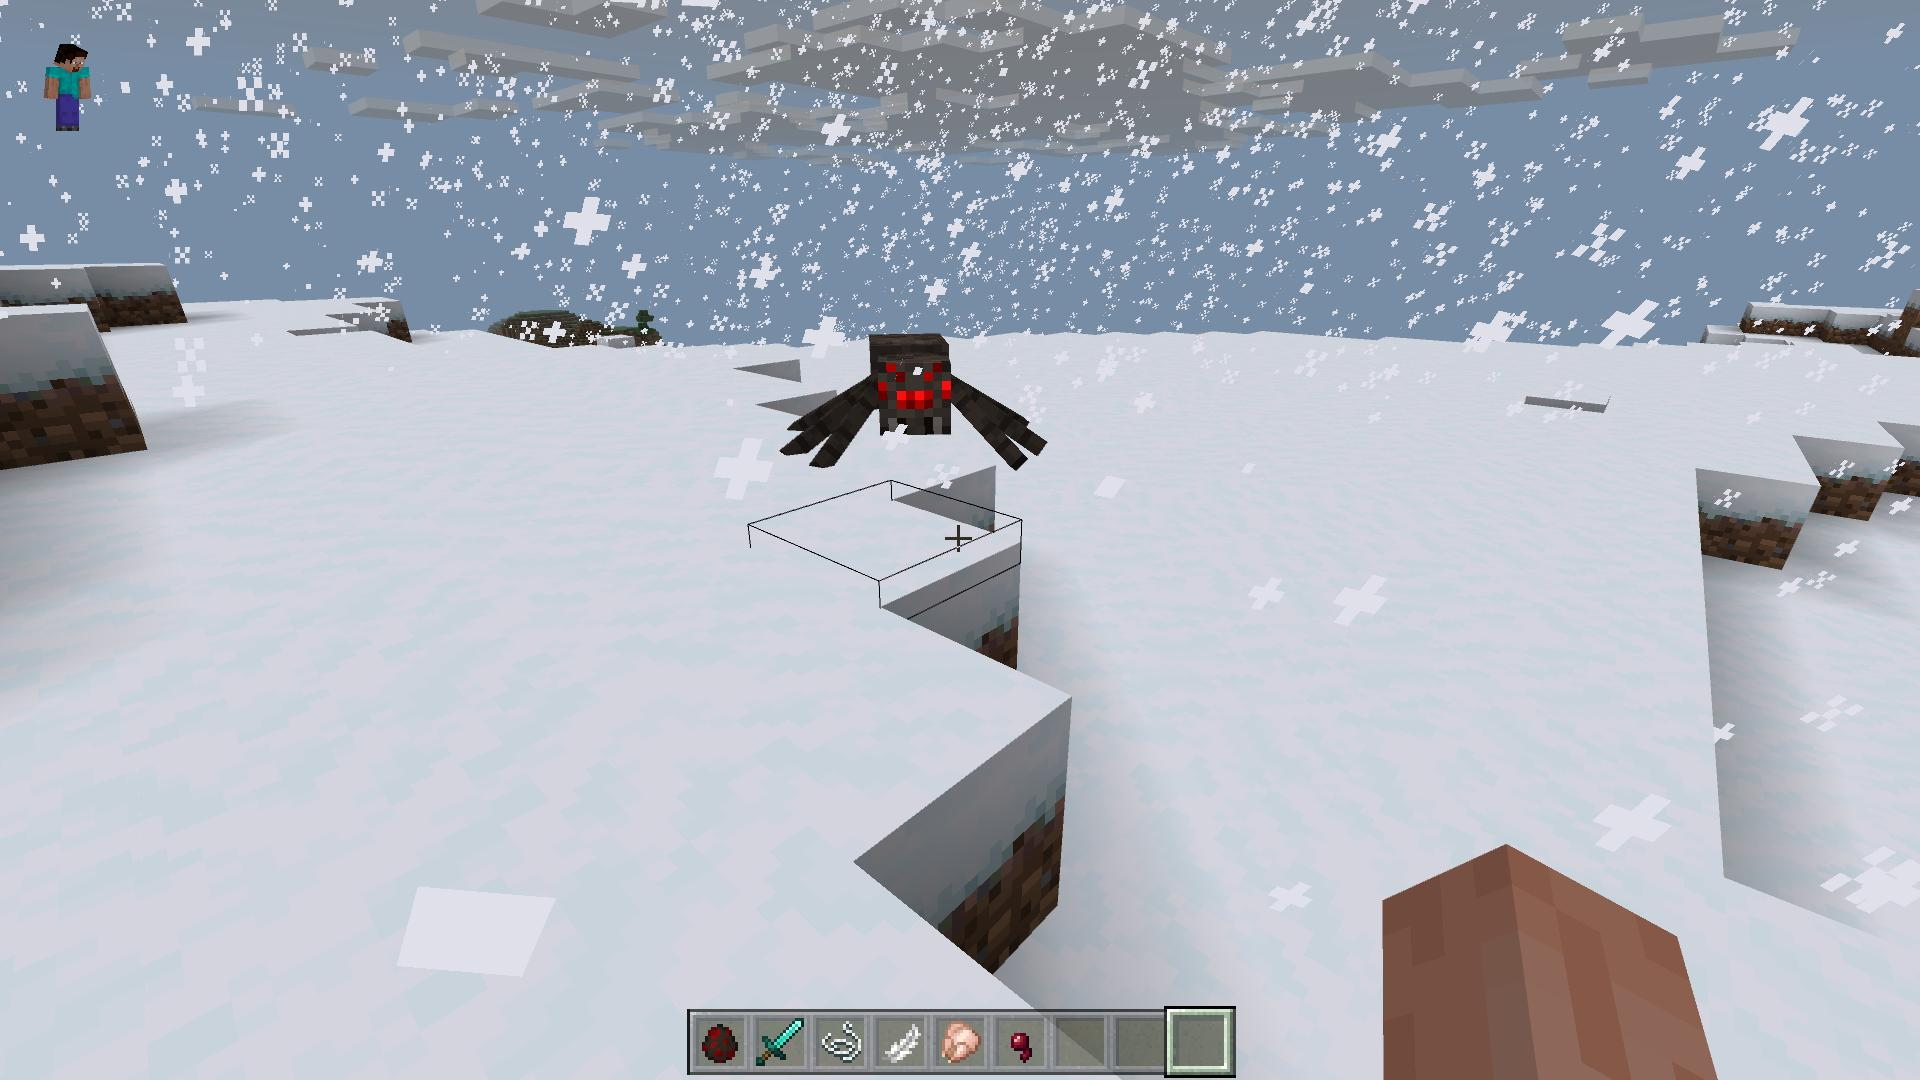spider: (781, 328, 1050, 492)
